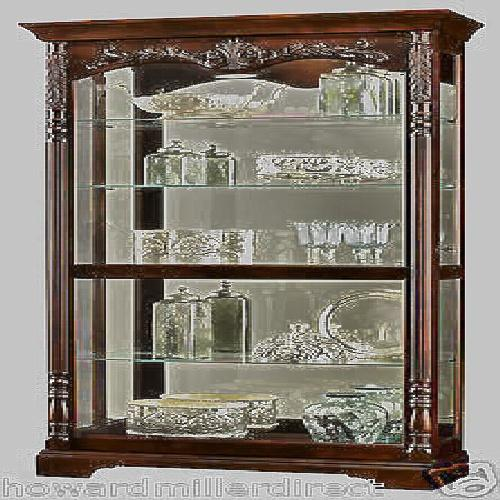cabinet: (33, 14, 469, 477)
